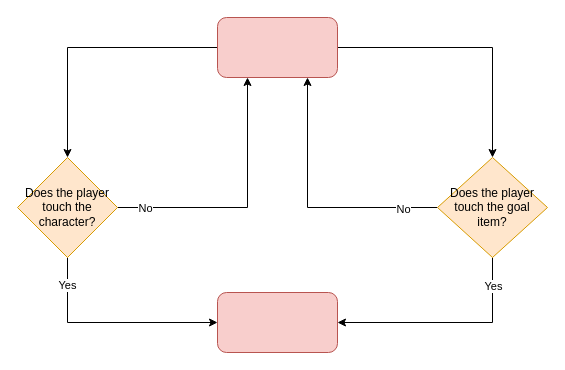
Some shapes in this 565 by 370 pixel diagram are drawn without their labels. The centre of each missing label's shape, as x and y in pixels:
"Idle" goes at point 277,47.
"The character moves from the left side of the screen to the right" goes at point 277,322.
